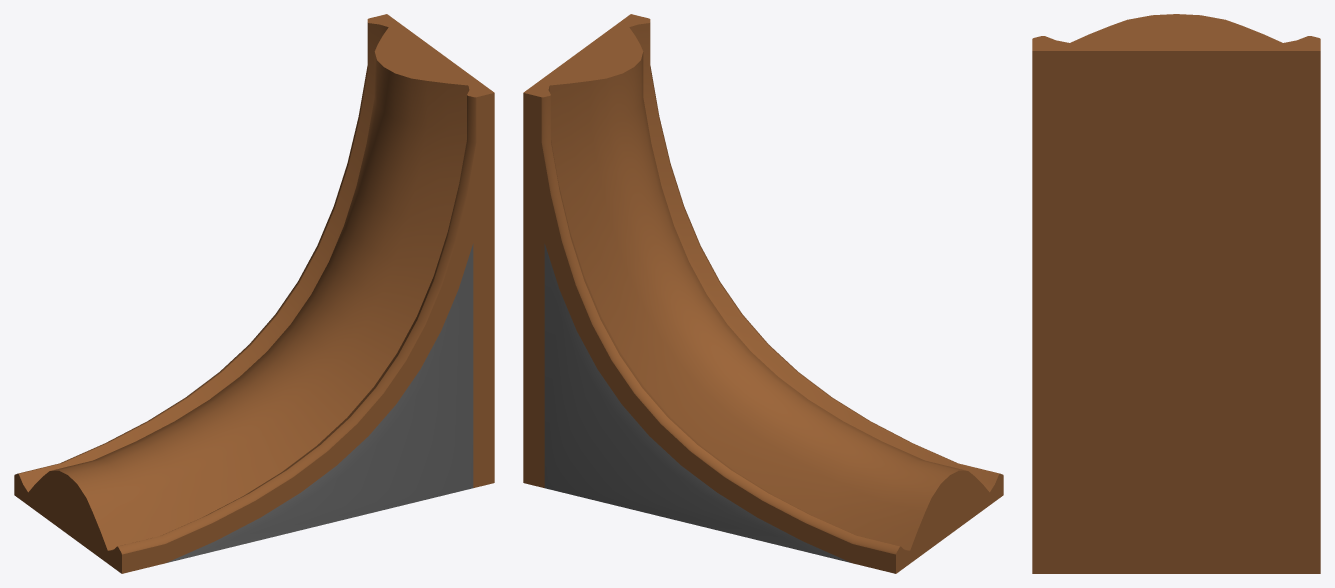
Rendered from 037_039_041_043_wall_deco_round_corner_I_gray.glb.
3 renders of one model, left to right at view 1: azimuth 30°, elevation 25°; view 2: azimuth 150°, elevation 25°; view 3: azimuth 270°, elevation 25°, orthographic. The views are drawn at different scales.
Visible parts, largest first — view 1: deco, wall; view 2: deco, wall; view 3: deco.
Boxes of the visible parts, x1=… form: deco: x1=14, y1=14, x2=494, y2=573; wall: x1=167, y1=244, x2=473, y2=562; deco: x1=523, y1=14, x2=1003, y2=573; wall: x1=544, y1=244, x2=850, y2=562; deco: x1=1032, y1=14, x2=1320, y2=573.
Bounding box in the file's own units: 1.5 × 1.5 × 0.75.
